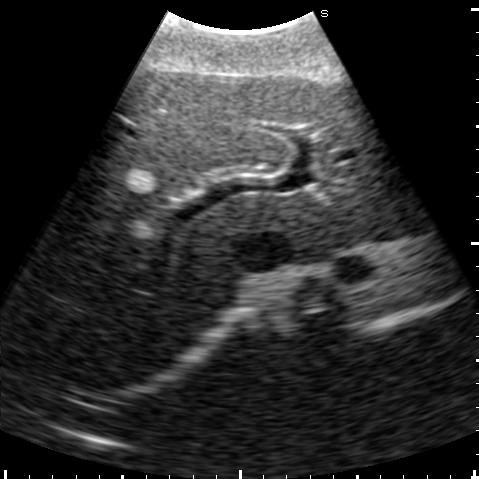IVC: (236, 234, 291, 271)
S1: (270, 199, 343, 253)
S2: (323, 188, 430, 222)
S3: (303, 78, 408, 188)
S4: (87, 74, 329, 203)
Tumor: (127, 168, 154, 193), (129, 223, 151, 238)
